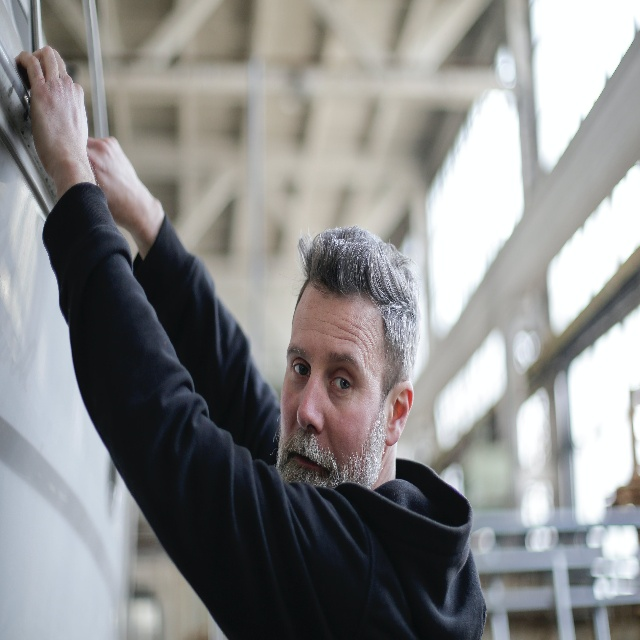Sin_guantes: (13, 52, 87, 167), (88, 132, 142, 223)
